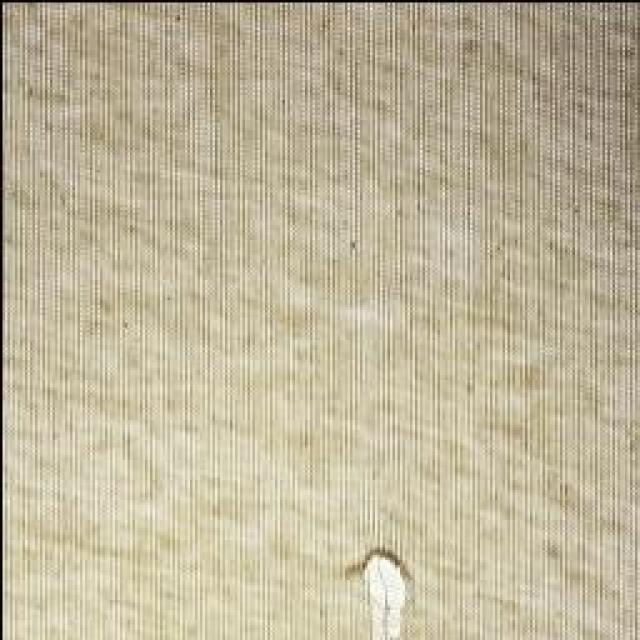other: (345, 535, 420, 640)
